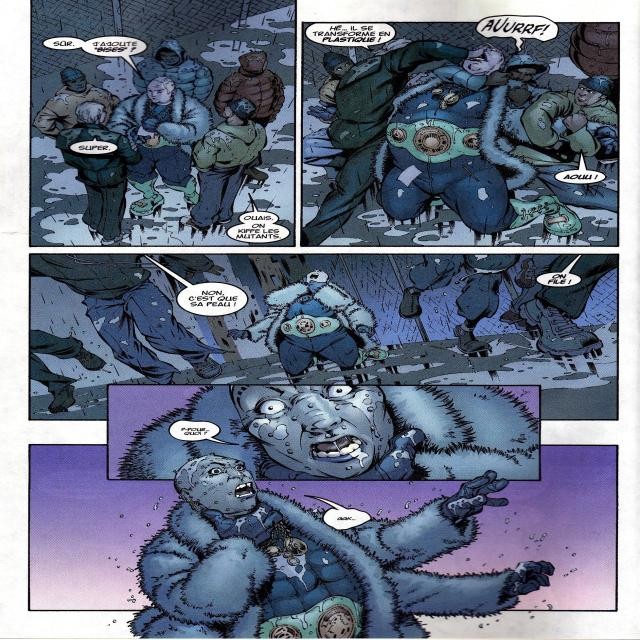comic_panel: (27, 444, 619, 639), (27, 252, 619, 421), (301, 14, 620, 247), (29, 0, 295, 246), (105, 384, 543, 481)
